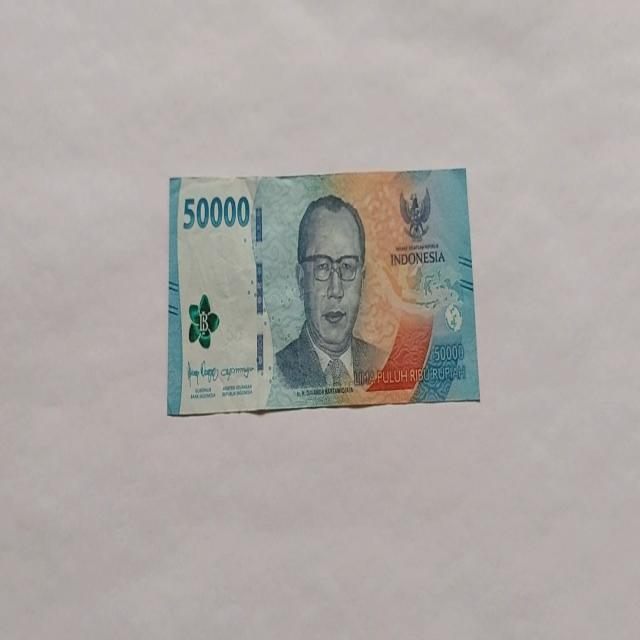lima puluh ribu rupiah: (166, 167, 480, 417), (272, 192, 384, 396)
